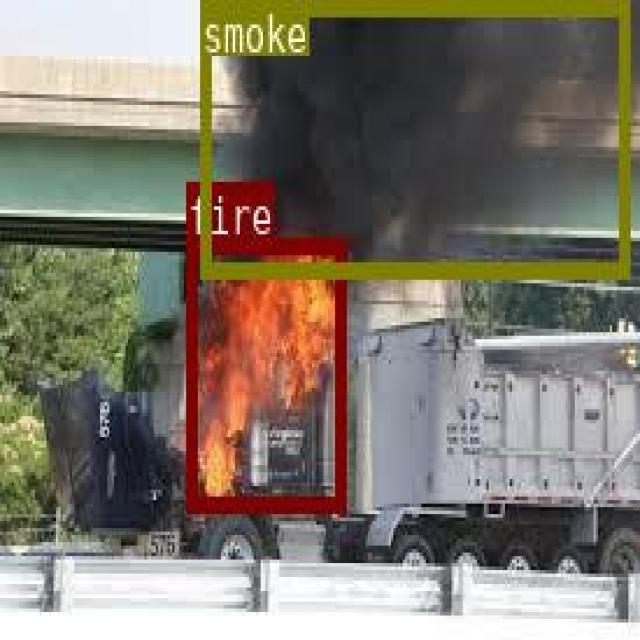fire: (184, 236, 344, 511)
smoke: (199, 0, 627, 273)
